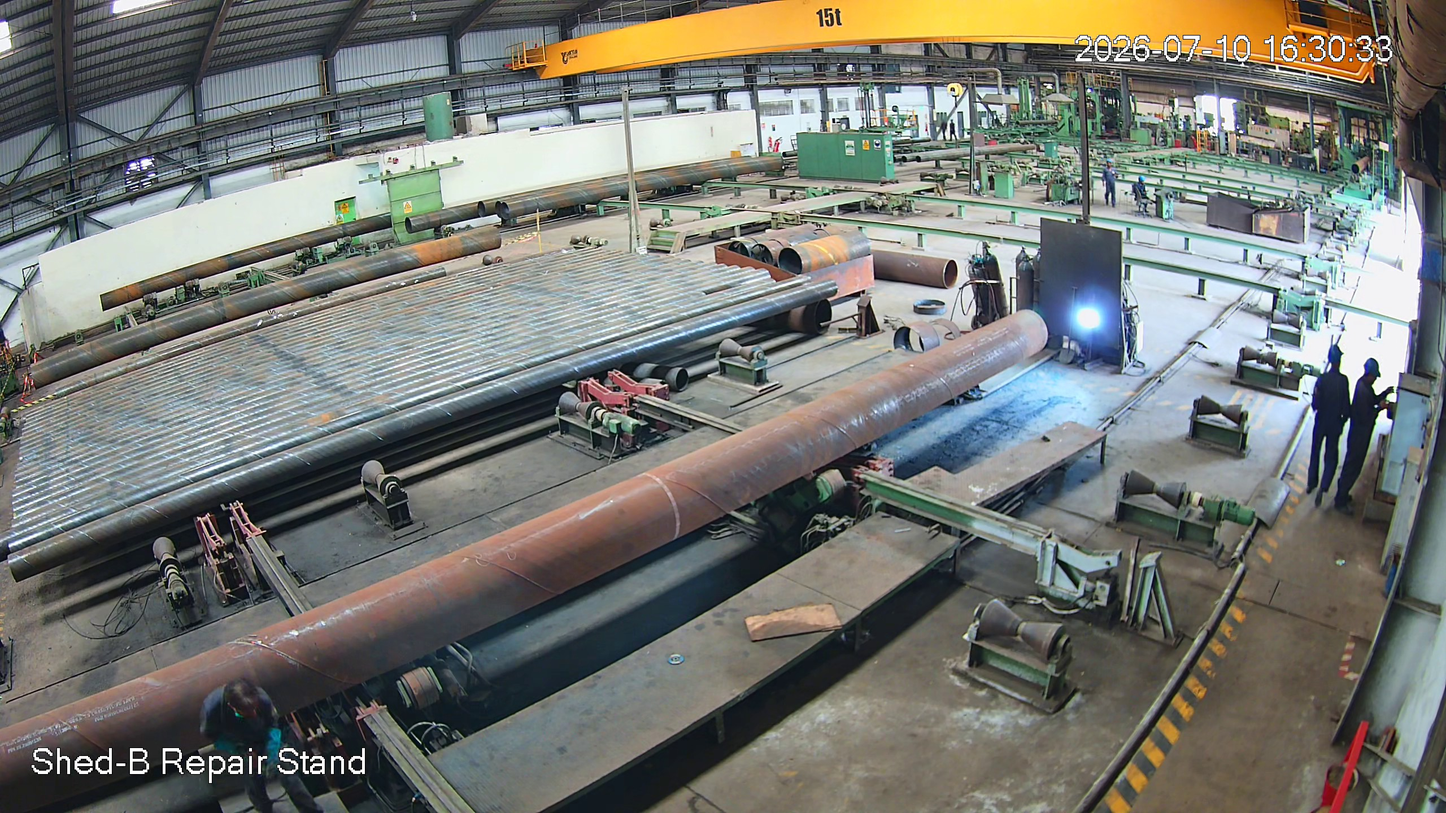Helmet: (1324, 340, 1351, 376), (1361, 355, 1385, 393)
Person: (198, 679, 321, 813), (1339, 360, 1395, 517), (1304, 342, 1355, 511)
